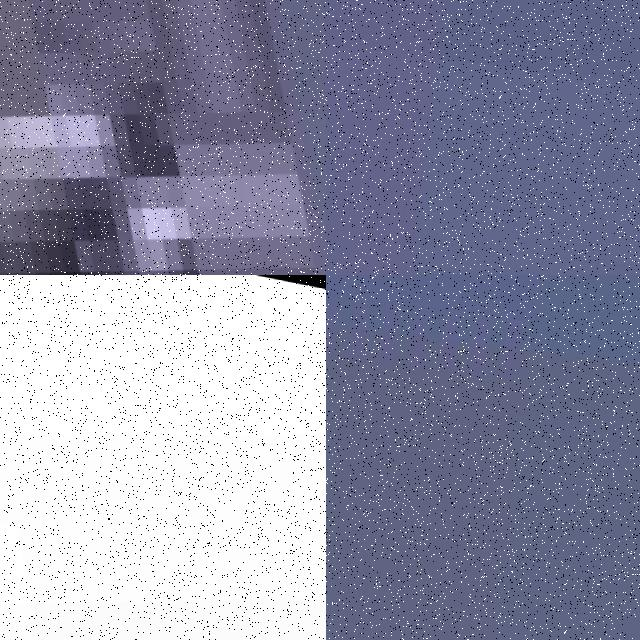drone: (0, 275, 326, 640), (0, 0, 326, 275)
